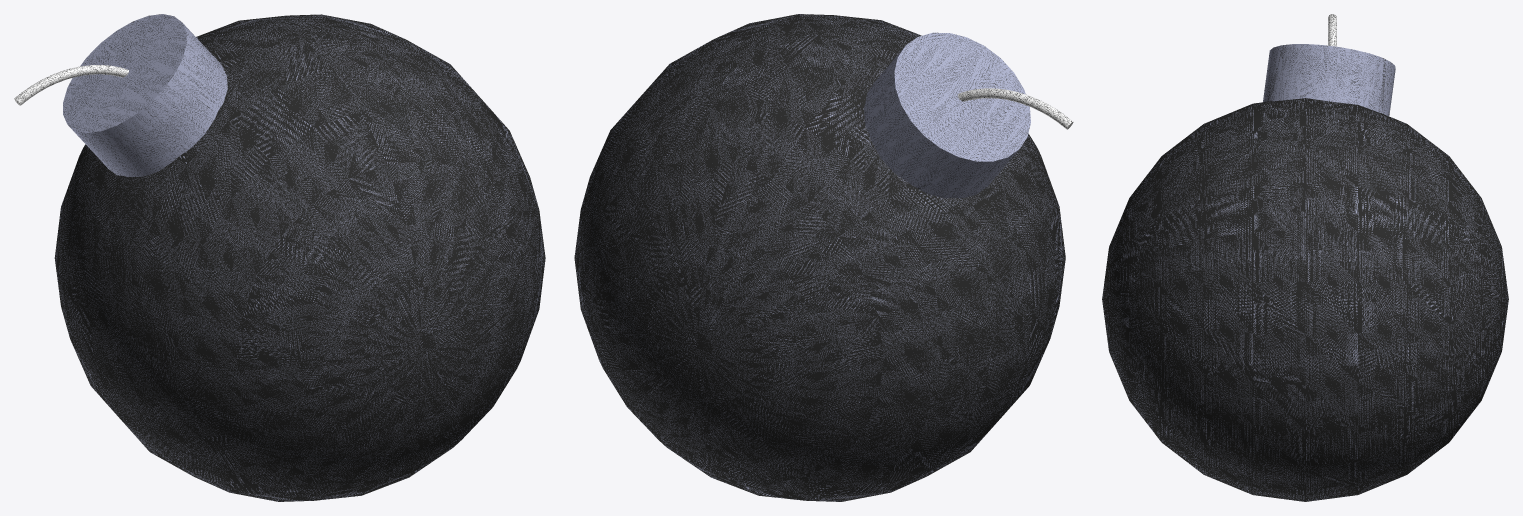
File: bomb.fbx
3 views of the same model, side by side, from view 1: azimuth 30°, elevation 25°; view 2: azimuth 150°, elevation 25°; view 3: azimuth 270°, elevation 25° (orthographic). The views are drawn at different scales.
Visible parts, largest first — view 1: Bombe1; view 2: Bombe1; view 3: Bombe1.
Boxes of the visible parts, x1,y1,x2,y2 form: Bombe1: (14,14,545,501); Bombe1: (574,14,1073,501); Bombe1: (1102,14,1508,501).
Bounding box in the file's own units: 44.64 × 42.32 × 39.48.
